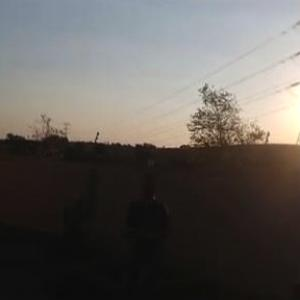follow: (118, 167, 175, 299)
